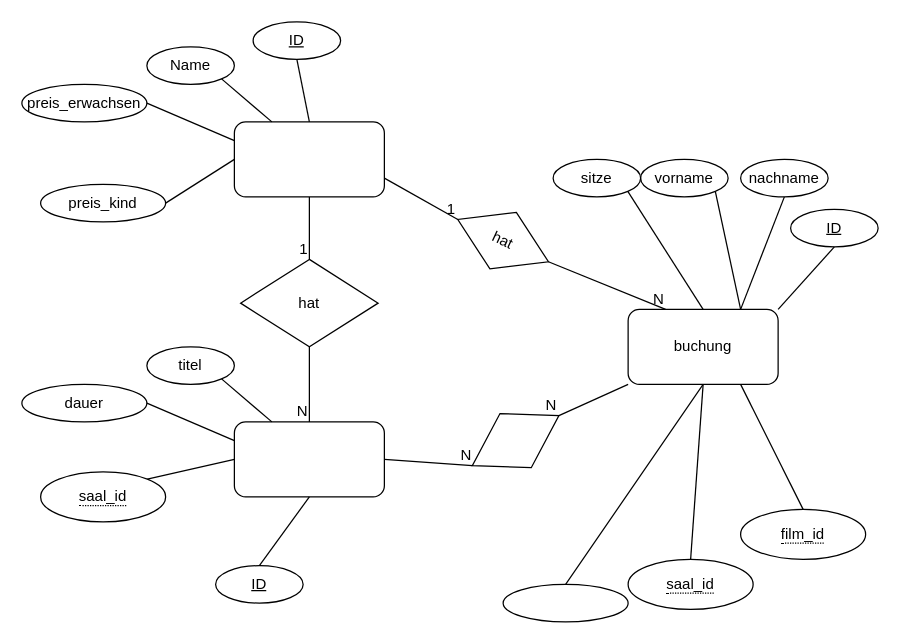
This 900x644 diagram has some shape labels left out. The shapes that lost their labels are listed below. From the top down, each one's box as (x1, y1, x2, y2) in pixels, then its label:
(233, 121, 384, 197): Saal
(233, 421, 384, 497): Film
(455, 387, 575, 493): gehört
(502, 583, 628, 622): gesamtpreis
